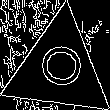O_W: (33, 44, 85, 93)
